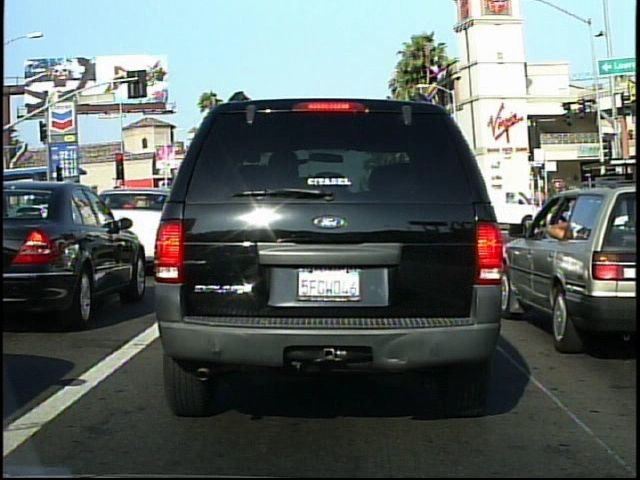person: (588, 183, 616, 240), (556, 181, 577, 237)
